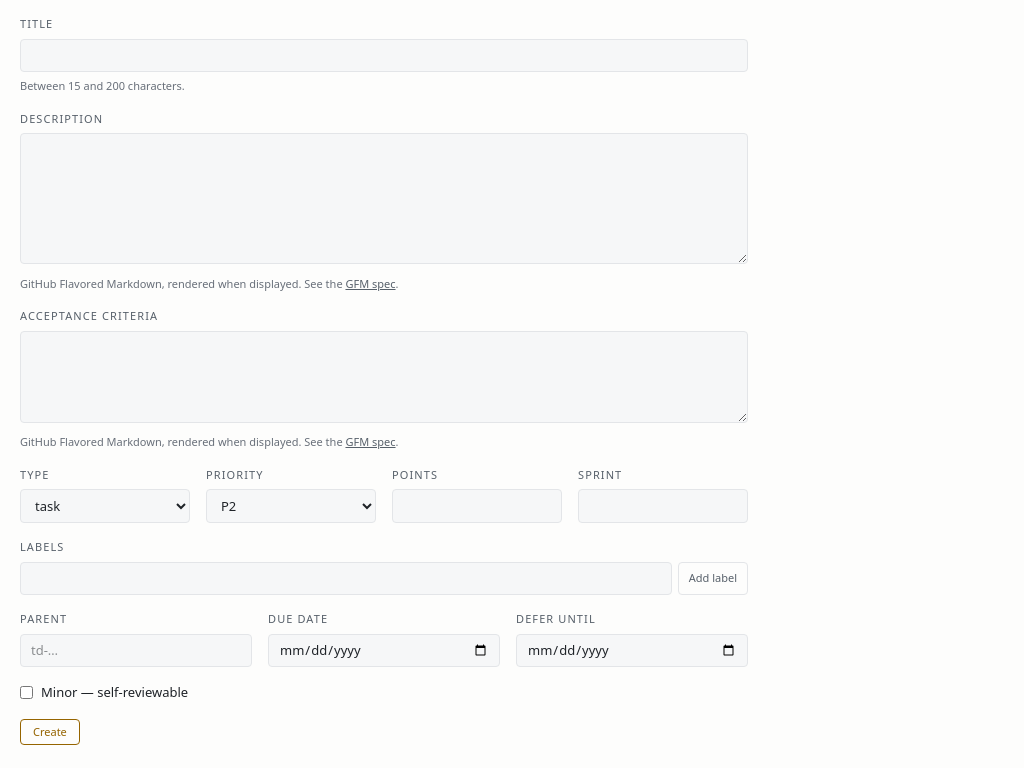
it: IssueForm › shows a field error this form does not bind
The width and height of the screenshot is (1024, 768).
In the field labelled "Title": (384, 55) [20, 38, 748, 72], type "A sufficiently long issue title"
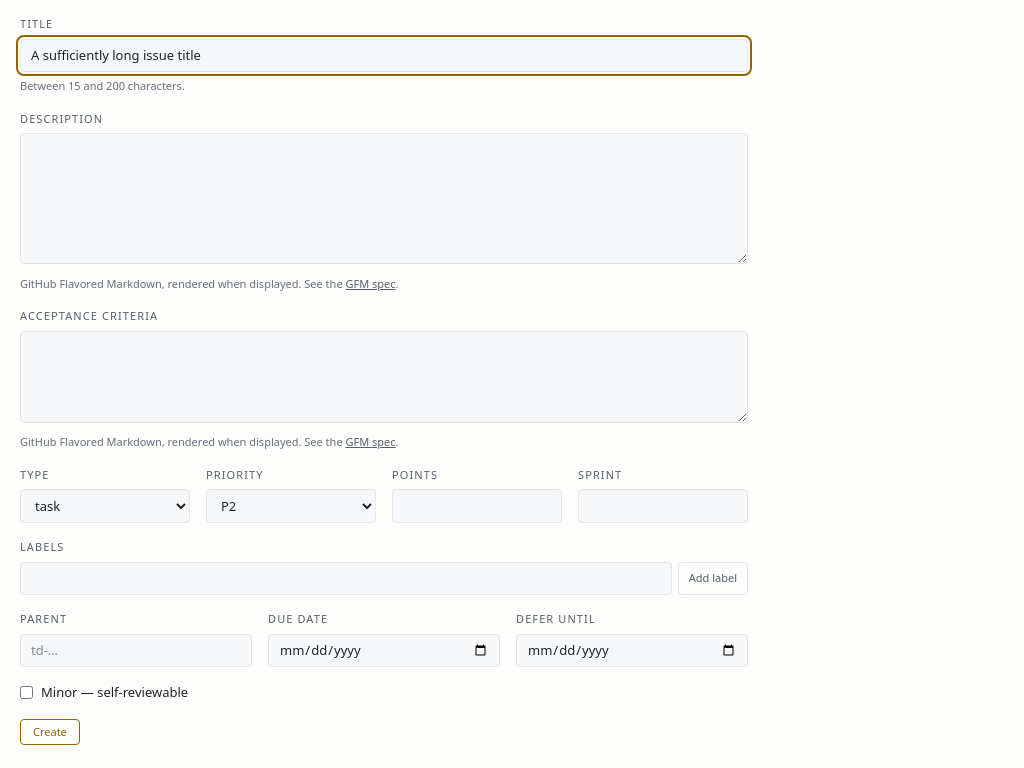
Click the button "Create": (50, 732) [20, 718, 80, 745]
(page scrolled)
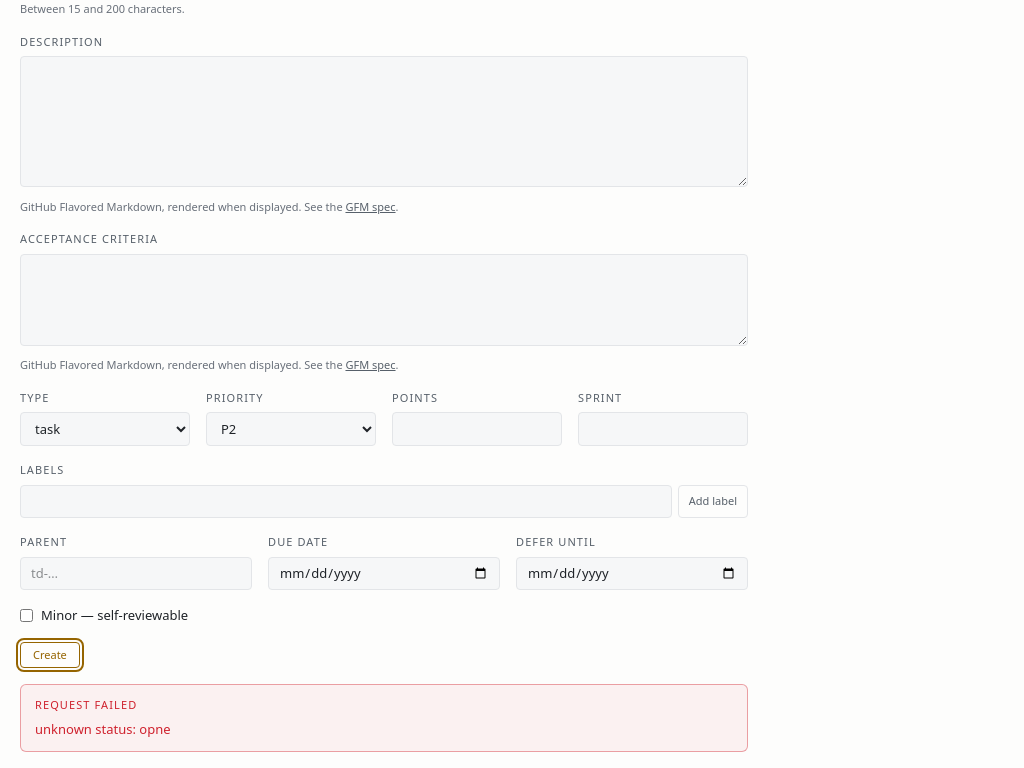
Now the text "unknown status: opne" is shown, box [35, 720, 170, 738]
